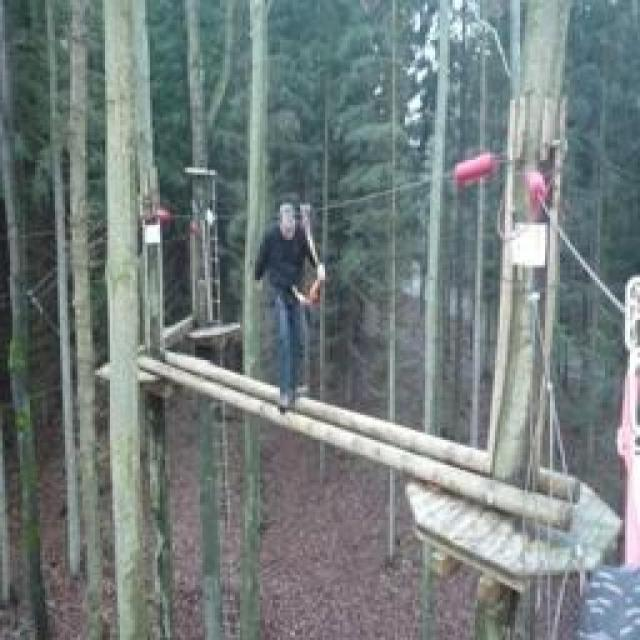Helmet: (252, 225, 346, 316), (266, 190, 312, 247)
